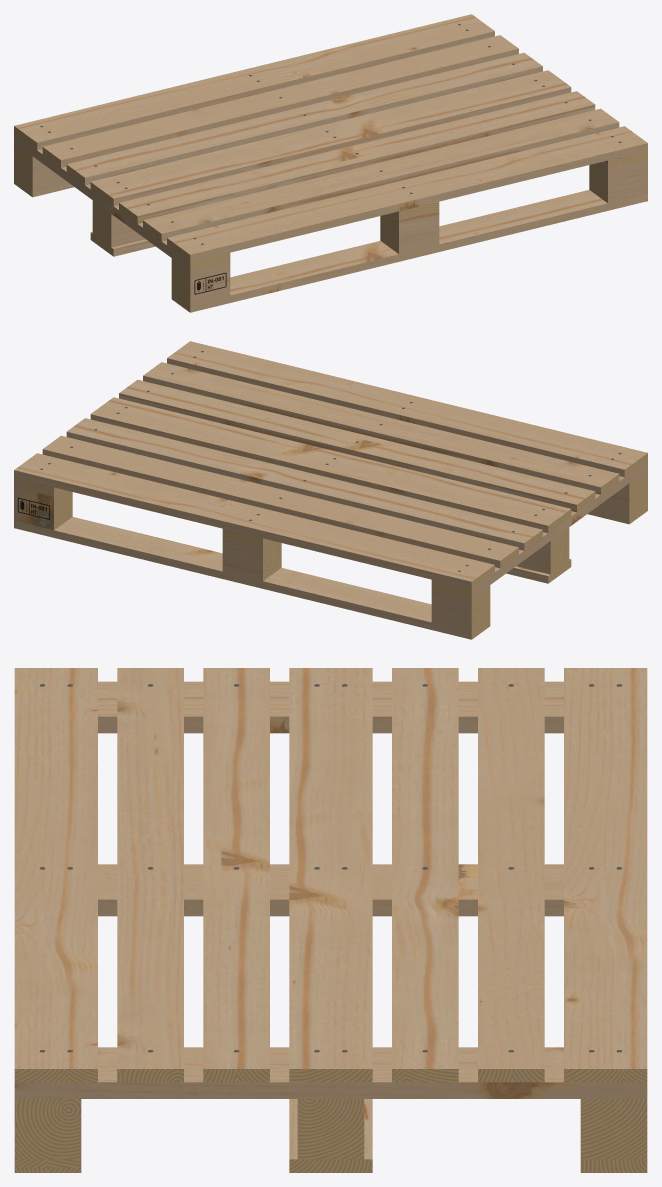
File: cp5-type-pallet-760x1140.glb
The picture shows the model from 3 angles, top to bottom: view 1: azimuth 30°, elevation 25°; view 2: azimuth 150°, elevation 25°; view 3: azimuth 270°, elevation 25°; orthographic projection. The views are drawn at different scales.
Visible parts, largest first — view 1: cp5-type-pallet-760x1140; view 2: cp5-type-pallet-760x1140; view 3: cp5-type-pallet-760x1140.
Boxes of the visible parts, bbox=[...] form: cp5-type-pallet-760x1140: bbox=[14, 14, 647, 312]; cp5-type-pallet-760x1140: bbox=[14, 341, 647, 639]; cp5-type-pallet-760x1140: bbox=[14, 668, 647, 1172].
Size of the model in its own units: 1.14 by 0.139 by 0.7619.
4 materials, 3 textured.
